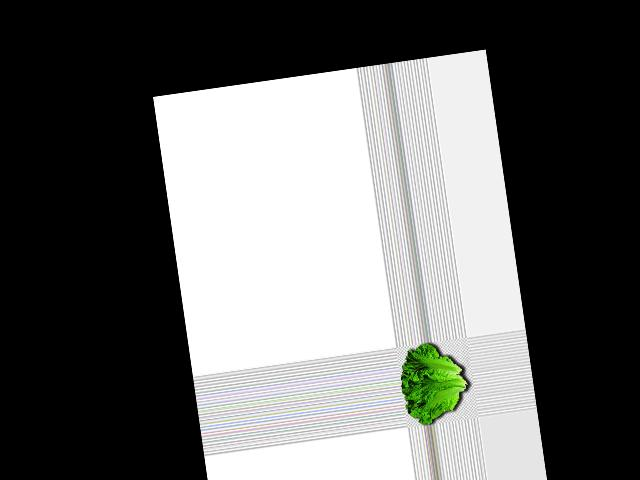lettuce: (396, 336, 473, 425)
